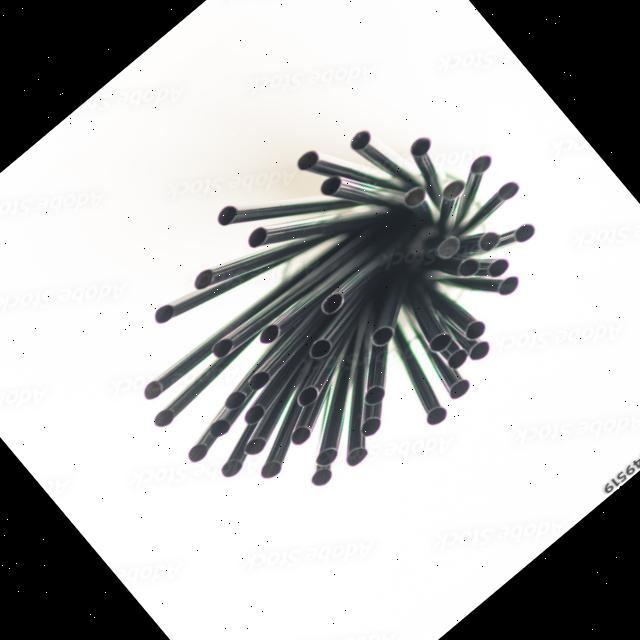plastic: (378, 352, 463, 444)
